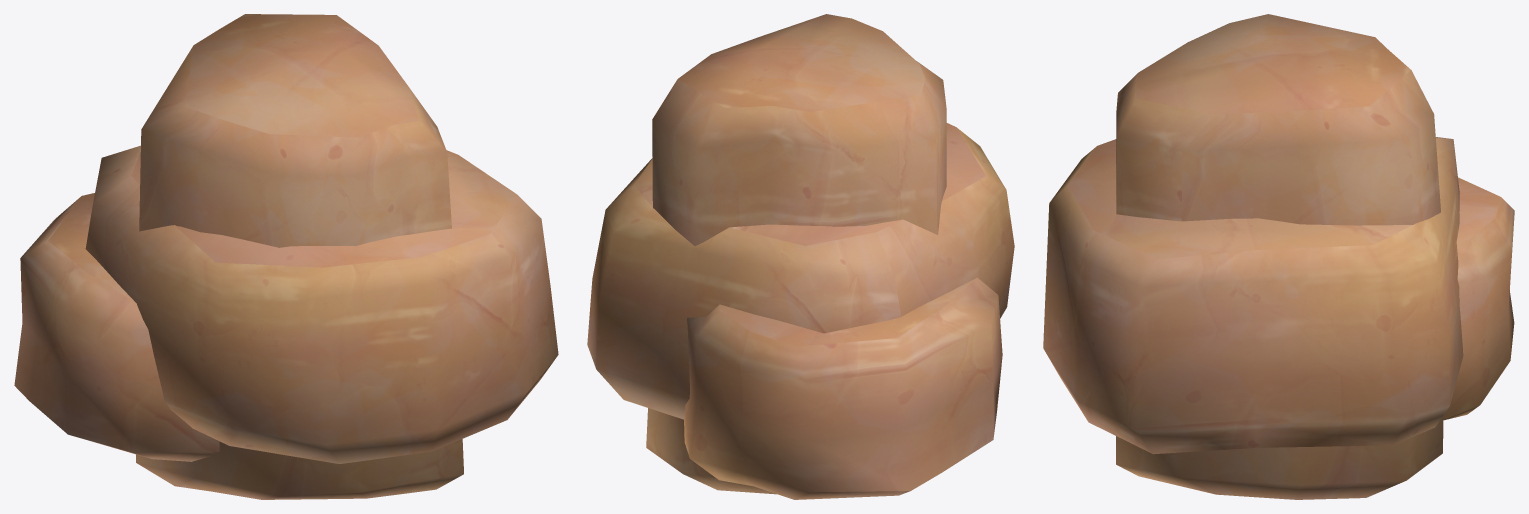
File: SM_RockStack01.fbx
The picture shows the model from 3 angles, left to right: view 1: azimuth 30°, elevation 25°; view 2: azimuth 150°, elevation 25°; view 3: azimuth 270°, elevation 25°; orthographic projection. The views are drawn at different scales.
Parts seen in each view (by area): view 1: SM_RockStack01; view 2: SM_RockStack01; view 3: SM_RockStack01.
Part boxes in pixels (x1,y1,x2,y2): SM_RockStack01: [14, 14, 558, 499]; SM_RockStack01: [587, 14, 1014, 499]; SM_RockStack01: [1043, 14, 1514, 499].
Size of the model in its own units: 681 by 658 by 702.
